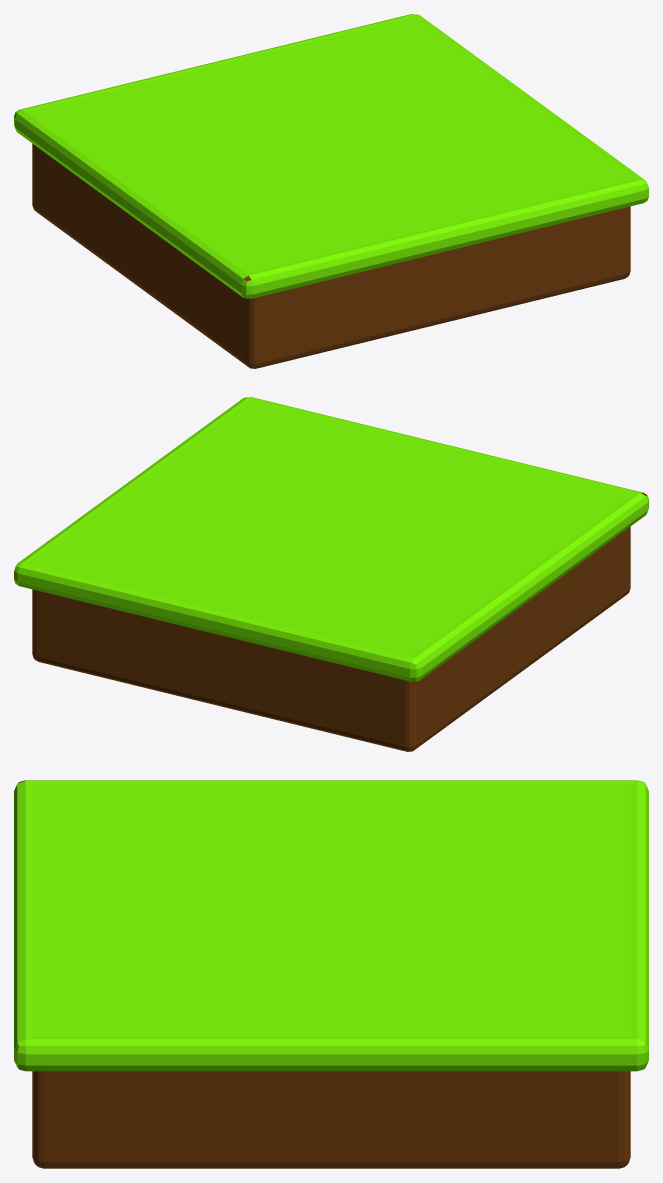
3 renders of one model, top to bottom at view 1: azimuth 30°, elevation 25°; view 2: azimuth 150°, elevation 25°; view 3: azimuth 270°, elevation 25°, orthographic. The views are drawn at different scales.
Visible parts, largest first — view 1: Grass.001, Soil.001; view 2: Grass.001, Soil.001; view 3: Grass.001, Soil.001.
Boxes of the visible parts, x1,y1,x2,y2 form: Grass.001: (14,14,648,298); Soil.001: (32,143,630,368); Grass.001: (14,397,648,681); Soil.001: (32,492,646,751); Grass.001: (14,780,648,1071); Soil.001: (18,780,630,1168).
Bounding box in the file's own units: 212 × 50.17 × 212.
